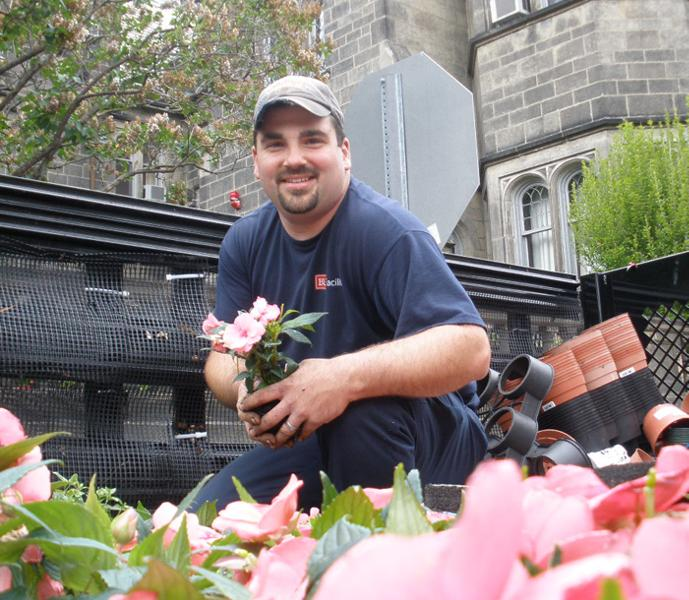person: (182, 72, 493, 531)
